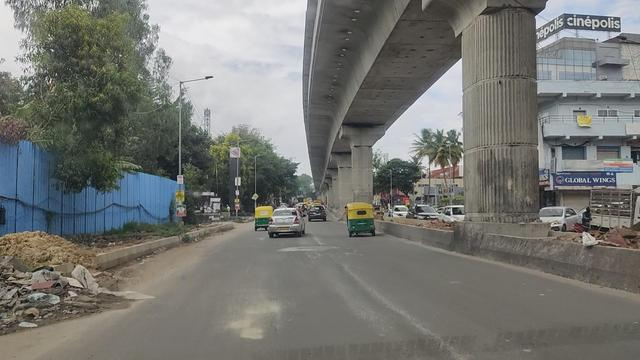LMV: (268, 206, 306, 239), (343, 203, 375, 239)
